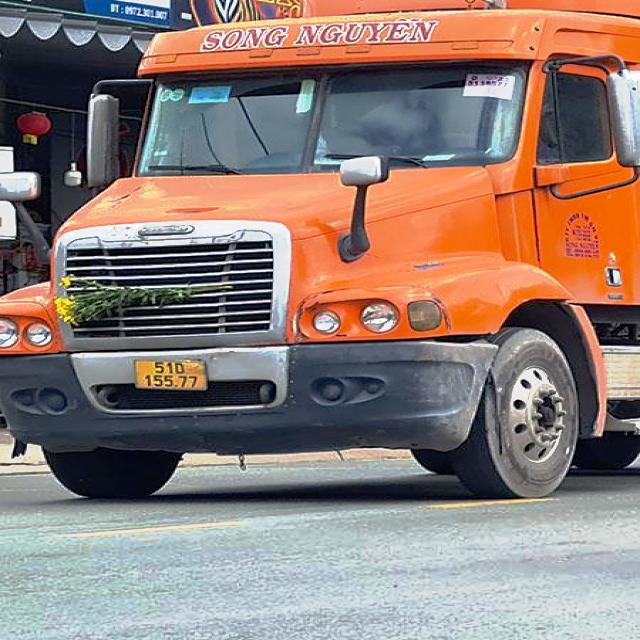license_plate: (135, 360, 207, 391)
